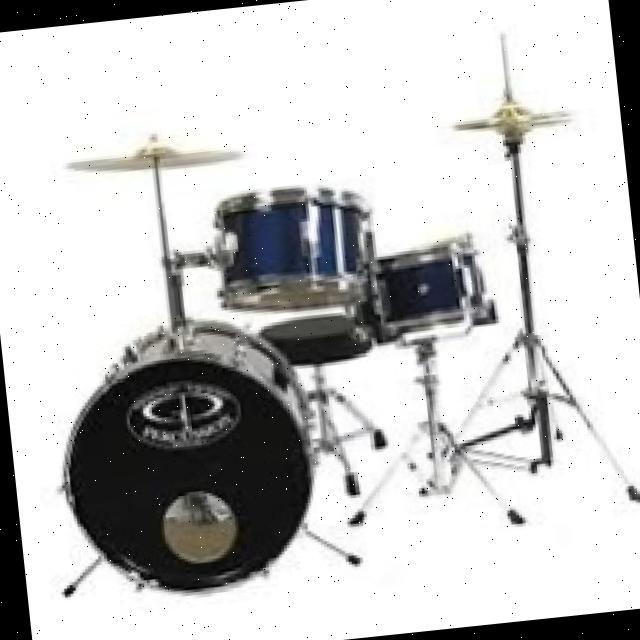drums: (15, 26, 640, 621)
